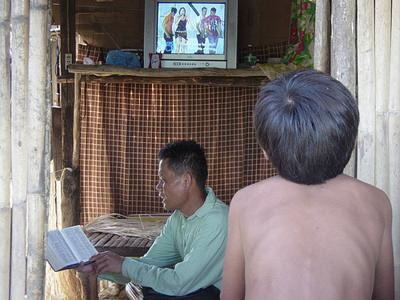person: (221, 70, 397, 300)
